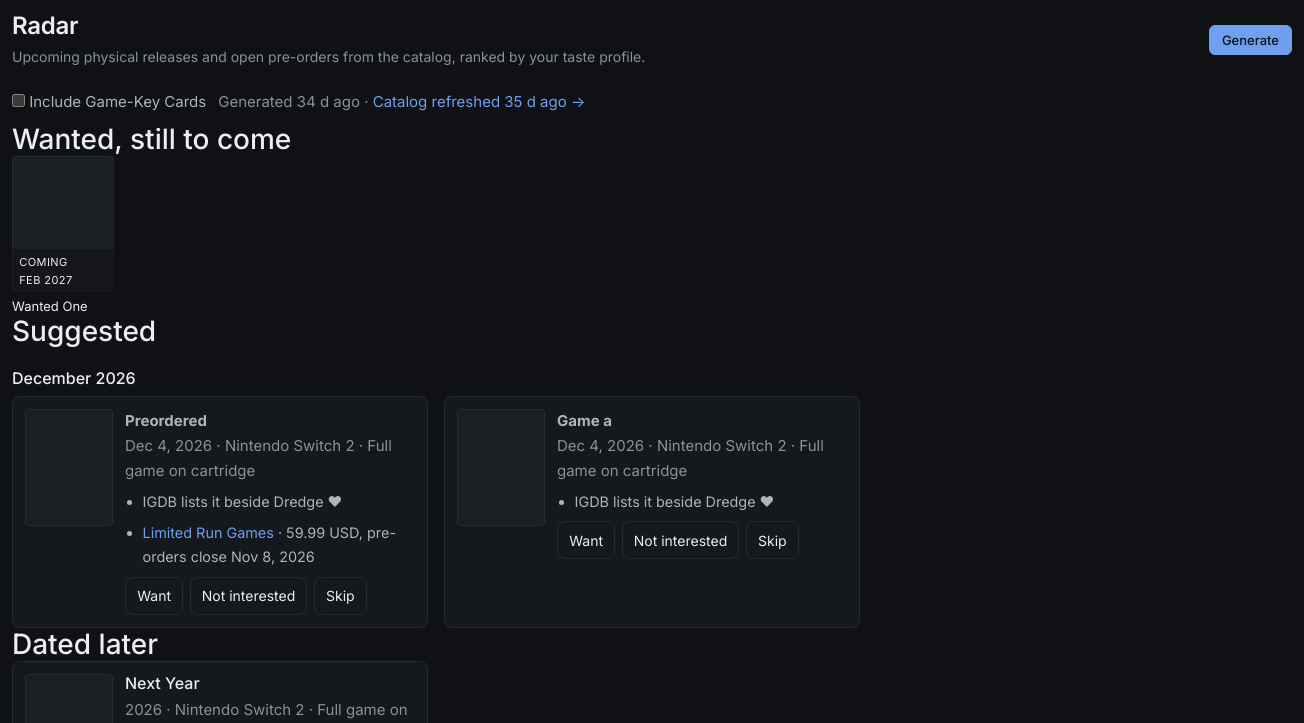
AdminRadar › generates with the key-card choice and reads the radar again
Check: the heading "Preordered" is shown, box [125, 411, 207, 430]
Click the checkbox labelled "Include Game-Key Cards": (18, 100) [12, 94, 25, 107]
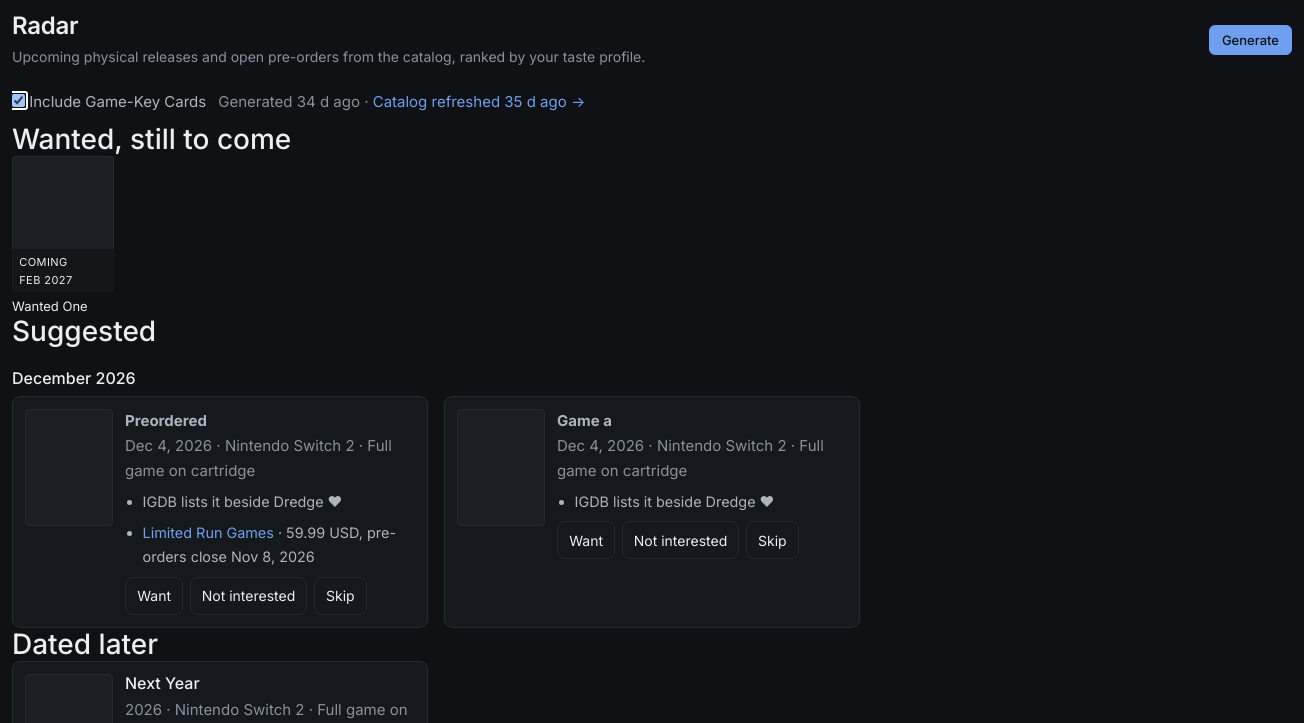
Click the button "Generate": (1250, 40) [1209, 25, 1292, 55]
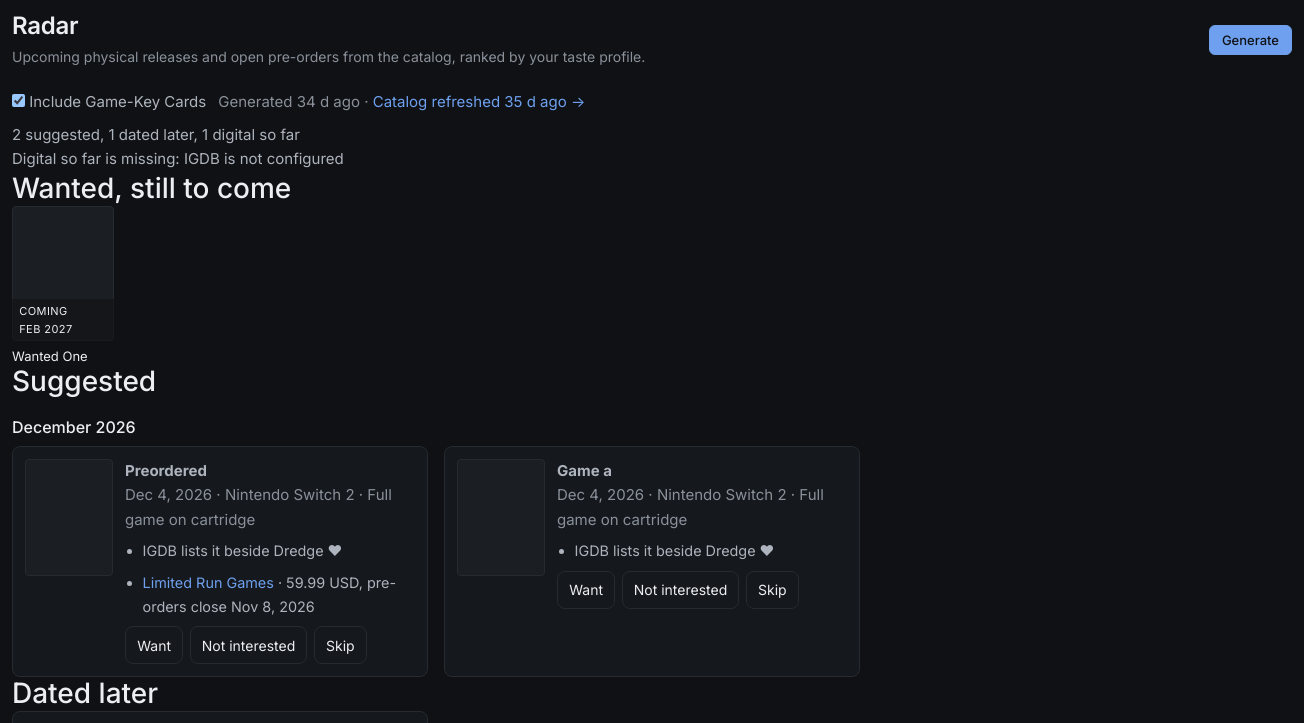
Check: the message "2 suggested, 1 dated later, 1 digital so far" is shown, box [12, 125, 300, 144]
Check: the message "Digital so far is missing: IGDB is not configured" is shown, box [12, 149, 344, 168]
